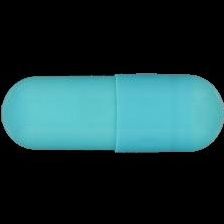53808-0962: (0, 0, 224, 224)
